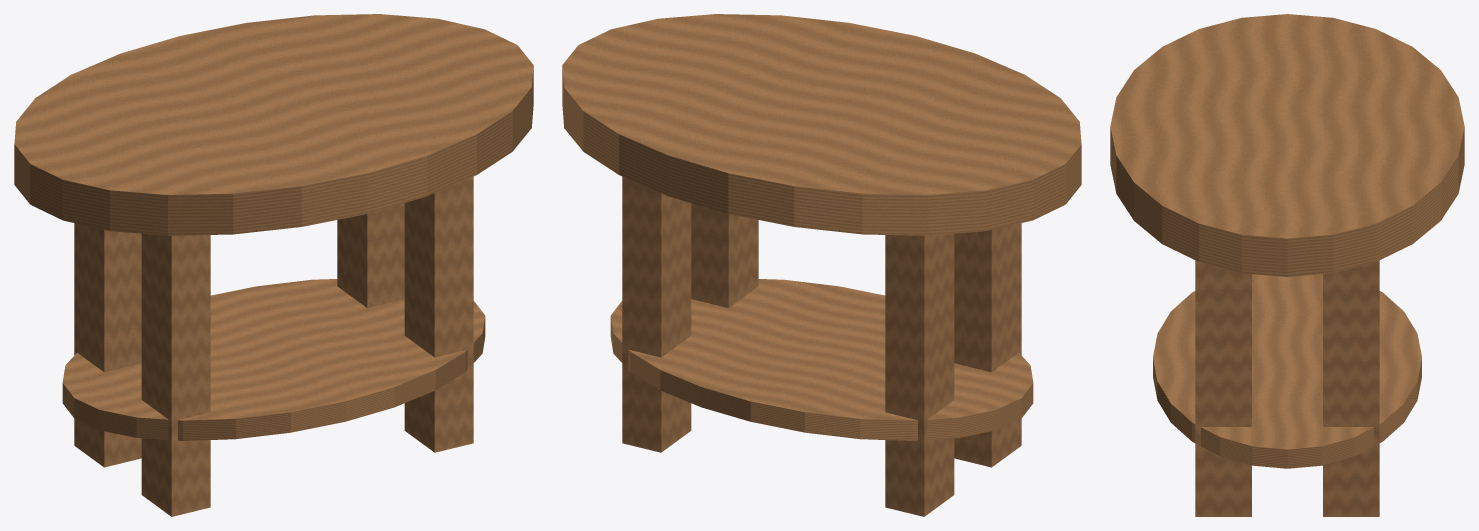
The picture shows the model from 3 angles, left to right: view 1: azimuth 30°, elevation 25°; view 2: azimuth 150°, elevation 25°; view 3: azimuth 270°, elevation 25°; orthographic projection. The views are drawn at different scales.
Parts seen in each view (by area): view 1: 1 table_top, 2 lower_shelf, 3 front_left_leg, 4 front_right_leg, 5 back_left_leg, 6 back_right_leg; view 2: 1 table_top, 2 lower_shelf, 5 back_left_leg, 6 back_right_leg, 3 front_left_leg, 4 front_right_leg; view 3: 1 table_top, 2 lower_shelf, 4 front_right_leg, 6 back_right_leg.
Part boxes in pixels (bbox=[...]): 1 table_top: bbox=[14, 14, 533, 235]; 2 lower_shelf: bbox=[62, 279, 485, 440]; 3 front_left_leg: bbox=[141, 233, 210, 516]; 4 front_right_leg: bbox=[404, 176, 473, 452]; 5 back_left_leg: bbox=[74, 223, 141, 467]; 6 back_right_leg: bbox=[337, 203, 404, 307]; 1 table_top: bbox=[562, 14, 1081, 235]; 2 lower_shelf: bbox=[610, 279, 1033, 440]; 5 back_left_leg: bbox=[885, 233, 954, 516]; 6 back_right_leg: bbox=[622, 176, 691, 452]; 3 front_left_leg: bbox=[954, 223, 1021, 467]; 4 front_right_leg: bbox=[691, 203, 758, 307]; 1 table_top: bbox=[1110, 14, 1464, 276]; 2 lower_shelf: bbox=[1153, 274, 1421, 468]; 4 front_right_leg: bbox=[1195, 260, 1251, 516]; 6 back_right_leg: bbox=[1323, 260, 1379, 516].
Bounding box in the file's own units: 0.6096 × 0.4064 × 0.4064.
Materials: 1 (1 with a texture image).
